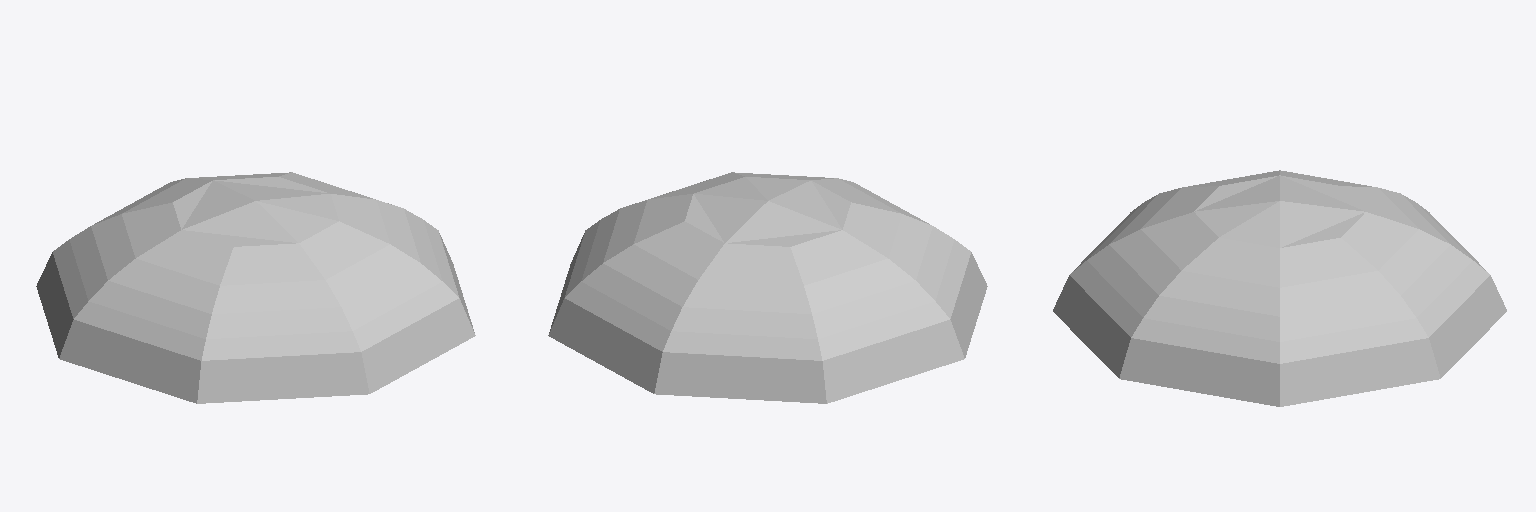
Rendered from Bun_top_v04.obj.
3 views of the same model, side by side, from view 1: azimuth 30°, elevation 25°; view 2: azimuth 150°, elevation 25°; view 3: azimuth 270°, elevation 25° (orthographic).
Visible parts, largest first — view 1: bun_bot1; view 2: bun_bot1; view 3: bun_bot1.
Boxes of the visible parts, <box> form: bun_bot1: <box>36,172,475,403</box>; bun_bot1: <box>548,172,987,403</box>; bun_bot1: <box>1053,170,1506,406</box>.
Size of the model in its own units: 30.09 by 8.04 by 30.09.